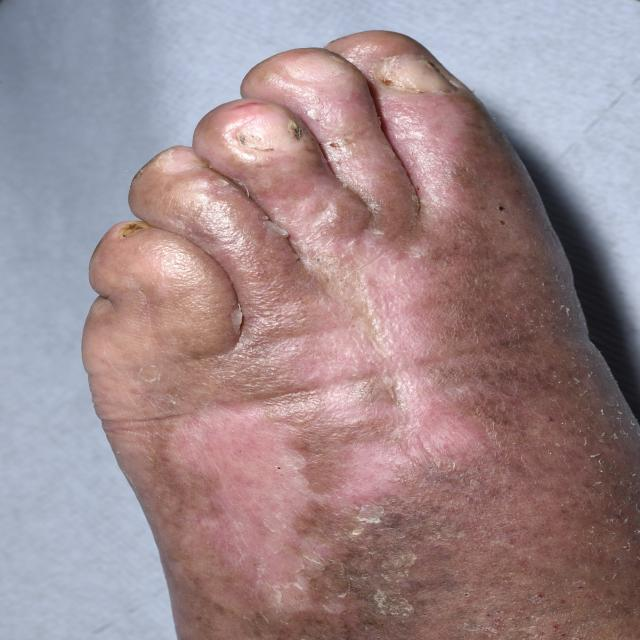wound: (217, 292, 566, 618)
